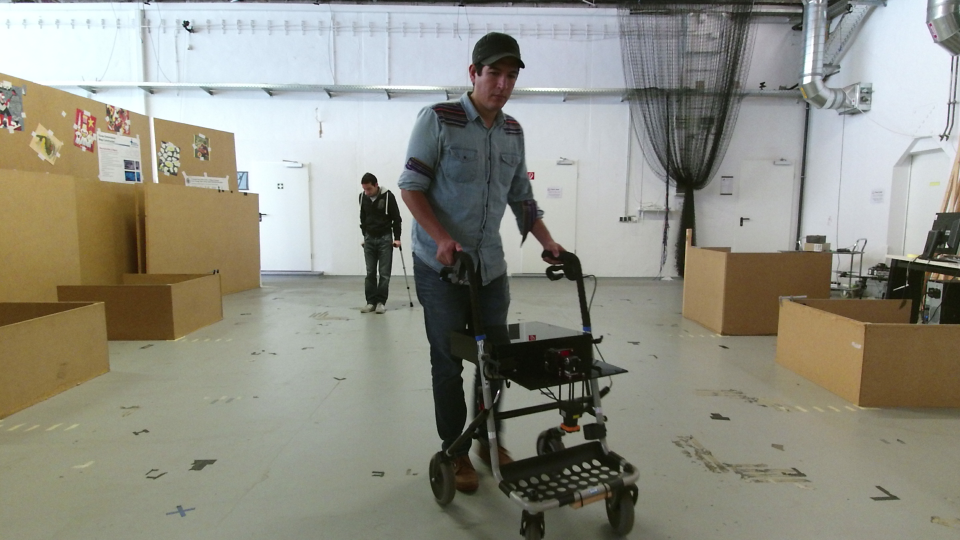crutches: (354, 168, 418, 316)
